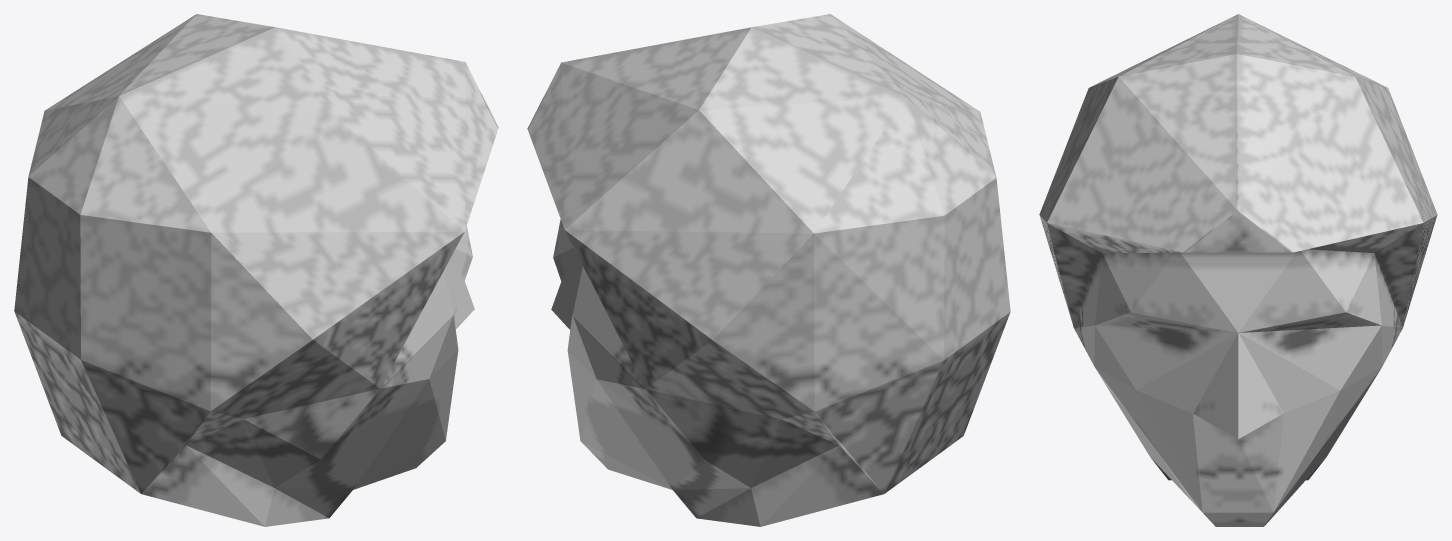
The model's file is statuehead.obj.
3 views of the same model, side by side, from view 1: azimuth 30°, elevation 25°; view 2: azimuth 150°, elevation 25°; view 3: azimuth 270°, elevation 25° (orthographic). The views are drawn at different scales.
Parts seen in each view (by area): view 1: body_Circle; view 2: body_Circle; view 3: body_Circle.
Boxes of the visible parts, x1=… form: body_Circle: x1=14, y1=14, x2=498, y2=526; body_Circle: x1=527, y1=14, x2=1010, y2=526; body_Circle: x1=1039, y1=14, x2=1437, y2=526.
Bounding box in the file's own units: 0.9614 × 1 × 0.8642.
Materials: 1 (1 with a texture image).
